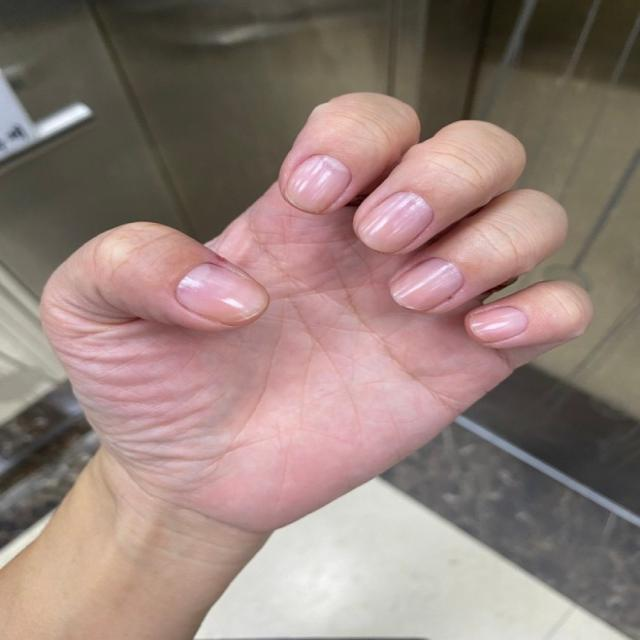Nail: (175, 262, 268, 324), (358, 191, 434, 252), (283, 155, 352, 214), (391, 258, 464, 311), (468, 306, 529, 341)
